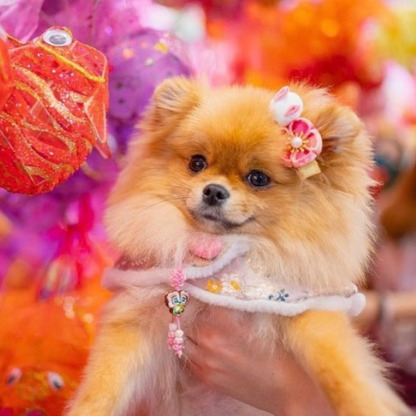Pomeranian: (107, 74, 387, 396)
